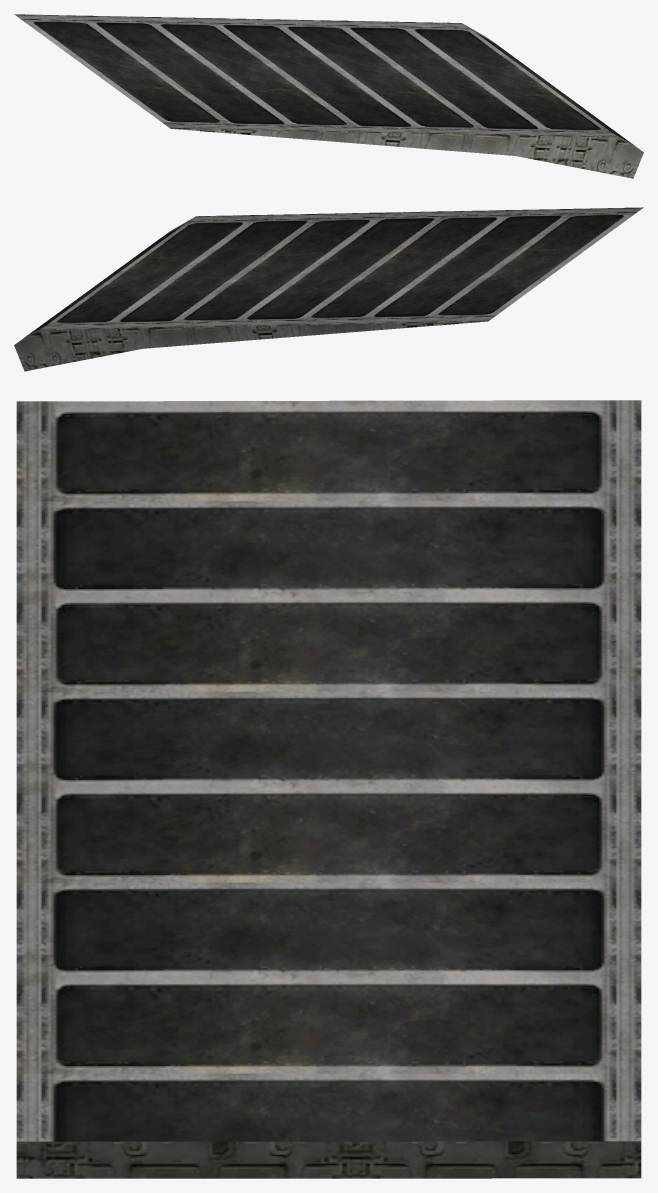
File: transport_door_l2.fbx
3 renders of one model, top to bottom at view 1: azimuth 30°, elevation 25°; view 2: azimuth 150°, elevation 25°; view 3: azimuth 270°, elevation 25°, orthographic. The views are drawn at different scales.
Visible parts, largest first — view 1: mesh_node; view 2: mesh_node; view 3: mesh_node.
Boxes of the visible parts, left/top/right/bottom form: mesh_node: left=14, top=14, right=643, bottom=178; mesh_node: left=14, top=207, right=643, bottom=371; mesh_node: left=16, top=400, right=641, bottom=1178.
Bounding box in the file's own units: 3.61 × 1.19 × 2.06.
